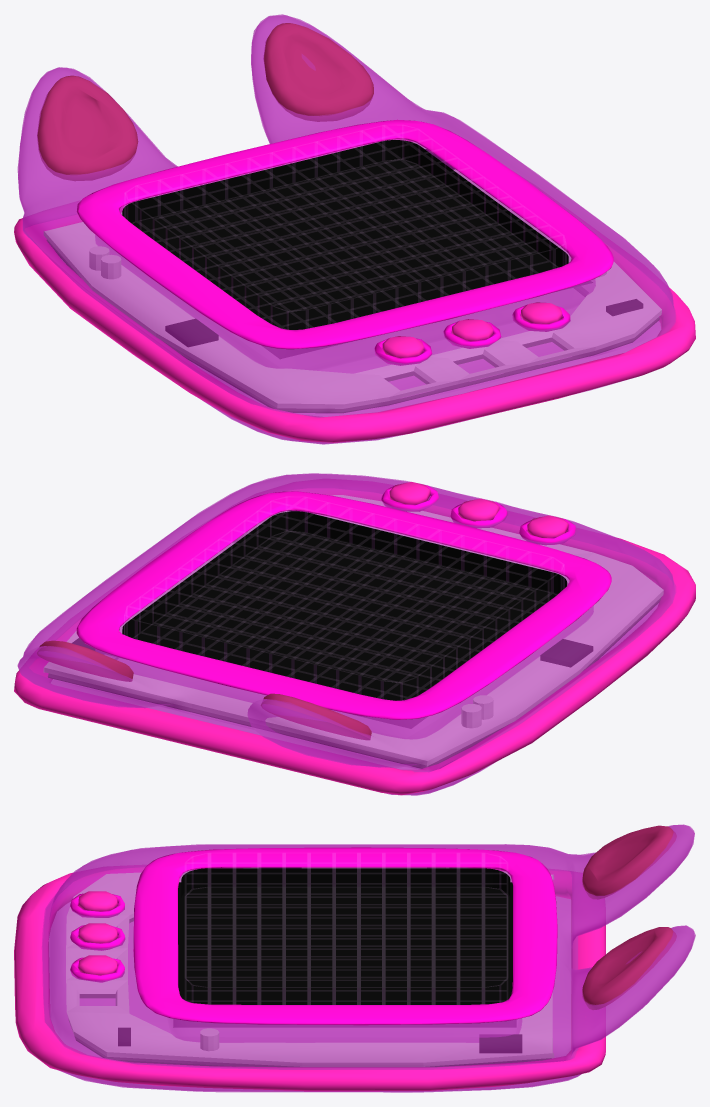
Rendered from Console.glb.
The picture shows the model from 3 angles, top to bottom: view 1: azimuth 30°, elevation 25°; view 2: azimuth 150°, elevation 25°; view 3: azimuth 270°, elevation 25°; orthographic projection. The views are drawn at different scales.
Parts seen in each view (by area): view 1: Body.020, GridBackground.020, GridFrame.020, MotherboardTop.020, Bumper.020, Ears.002, GridDisplayFrame.020, MotherboardBottom.020, Grid.002, Button.023, Button.021, Button.022; view 2: Body.020, GridBackground.020, GridFrame.020, Bumper.020, MotherboardTop.020, GridDisplayFrame.020, Ears.002, MotherboardBottom.020, Grid.002, Button.023, Button.021, Button.022 (+3 smaller); view 3: Body.020, GridBackground.020, GridFrame.020, Bumper.020, MotherboardTop.020, Ears.002, GridDisplayFrame.020, Grid.002, MotherboardBottom.020, Button.021, Button.022, Button.023 (+3 smaller).
Part boxes in pixels (bbox=[...]): Body.020: bbox=[17, 14, 675, 444]; GridBackground.020: bbox=[131, 159, 592, 358]; GridFrame.020: bbox=[76, 119, 613, 349]; MotherboardTop.020: bbox=[44, 141, 661, 408]; Bumper.020: bbox=[14, 139, 695, 442]; Ears.002: bbox=[37, 23, 373, 180]; GridDisplayFrame.020: bbox=[122, 140, 568, 267]; MotherboardBottom.020: bbox=[47, 240, 659, 412]; Grid.002: bbox=[124, 125, 565, 326]; Button.023: bbox=[521, 302, 562, 323]; Button.021: bbox=[382, 336, 423, 358]; Button.022: bbox=[452, 319, 493, 341]; Body.020: bbox=[17, 473, 675, 795]; GridBackground.020: bbox=[132, 531, 557, 700]; GridFrame.020: bbox=[76, 491, 611, 719]; Bumper.020: bbox=[14, 488, 695, 795]; MotherboardTop.020: bbox=[44, 495, 663, 766]; GridDisplayFrame.020: bbox=[122, 511, 566, 637]; Ears.002: bbox=[37, 640, 371, 739]; MotherboardBottom.020: bbox=[48, 598, 660, 768]; Grid.002: bbox=[124, 497, 563, 696]; Button.023: bbox=[389, 482, 430, 504]; Button.021: bbox=[527, 515, 568, 537]; Button.022: bbox=[458, 498, 499, 521]; Body.020: bbox=[42, 824, 695, 1092]; GridBackground.020: bbox=[178, 882, 512, 1004]; GridFrame.020: bbox=[133, 847, 557, 1025]; Bumper.020: bbox=[14, 867, 605, 1091]; MotherboardTop.020: bbox=[66, 870, 554, 1066]; Ears.002: bbox=[582, 825, 676, 1009]; GridDisplayFrame.020: bbox=[181, 868, 510, 897]; Grid.002: bbox=[185, 853, 507, 1004]; MotherboardBottom.020: bbox=[69, 917, 551, 1066]; Button.021: bbox=[78, 891, 117, 911]; Button.022: bbox=[78, 923, 117, 943]; Button.023: bbox=[78, 955, 117, 975].
Size of what is drawn, in the model's own units: 23.91 by 5.96 by 31.79.
